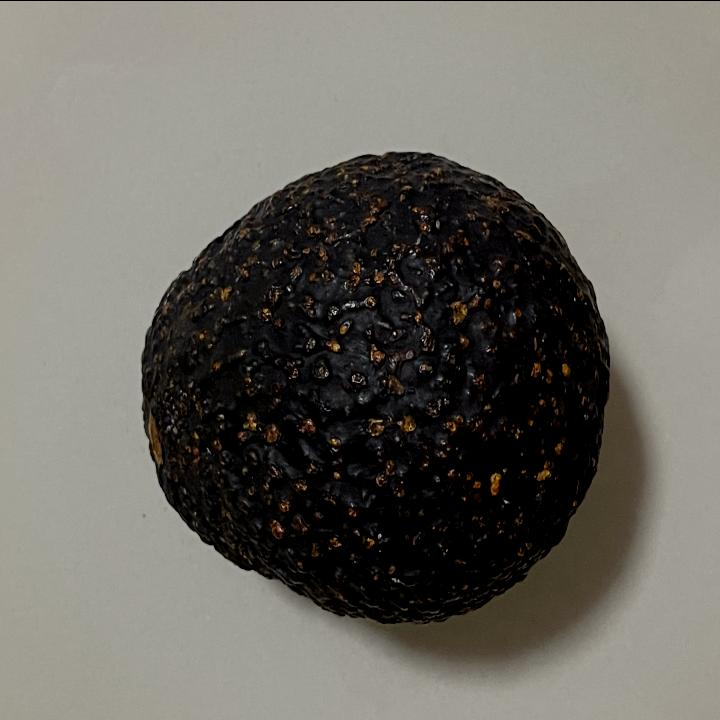Level3: (127, 138, 620, 636)
